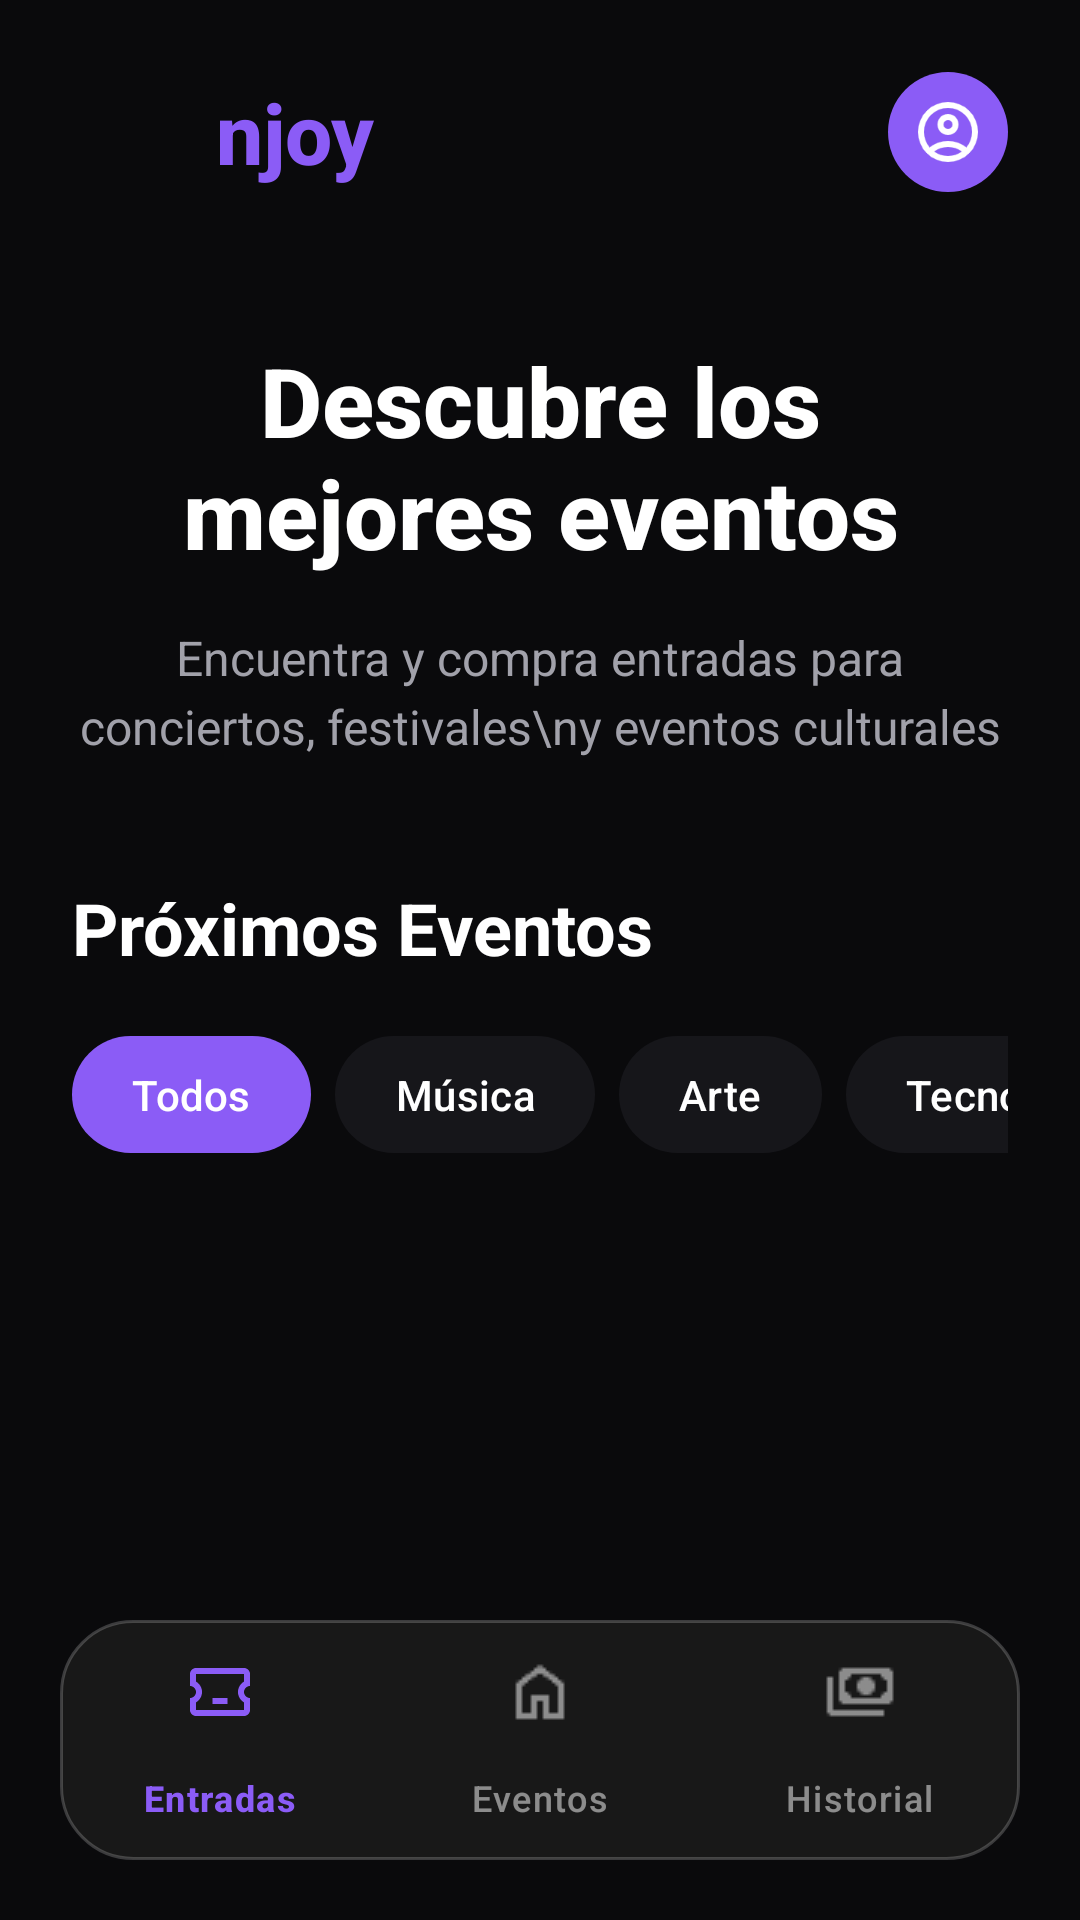

Icons on this 1080*1920 Android screen, each with its box as (x1, y1, x2, y2):
Perfil de usuario: (888, 72, 1008, 192)
